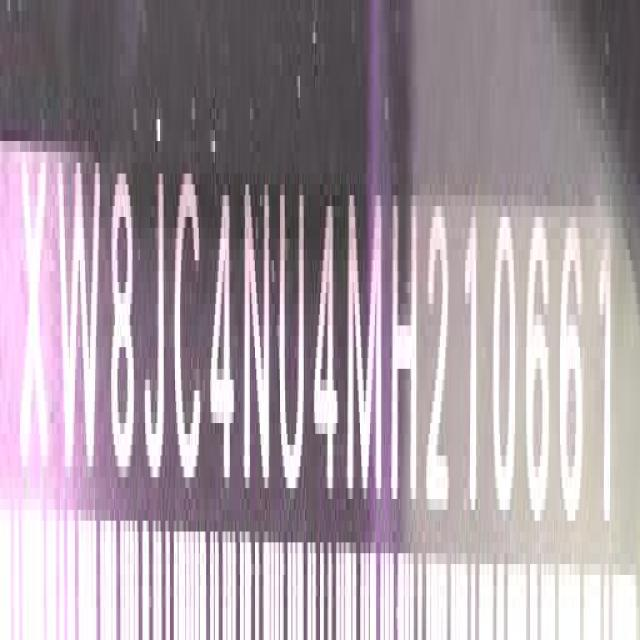0: (492, 204, 522, 531)
1: (598, 224, 620, 545), (464, 196, 482, 530)
2: (176, 165, 204, 496), (426, 197, 454, 522)
4: (313, 184, 342, 509), (208, 167, 236, 498)
6: (558, 207, 585, 535), (526, 205, 553, 532)
8: (110, 160, 138, 486)
H: (390, 184, 422, 514)
J: (146, 165, 170, 490)
M: (346, 181, 386, 526)
N: (244, 171, 274, 503)
U: (280, 172, 306, 503)
W: (59, 150, 100, 488)
X: (18, 138, 51, 475)
